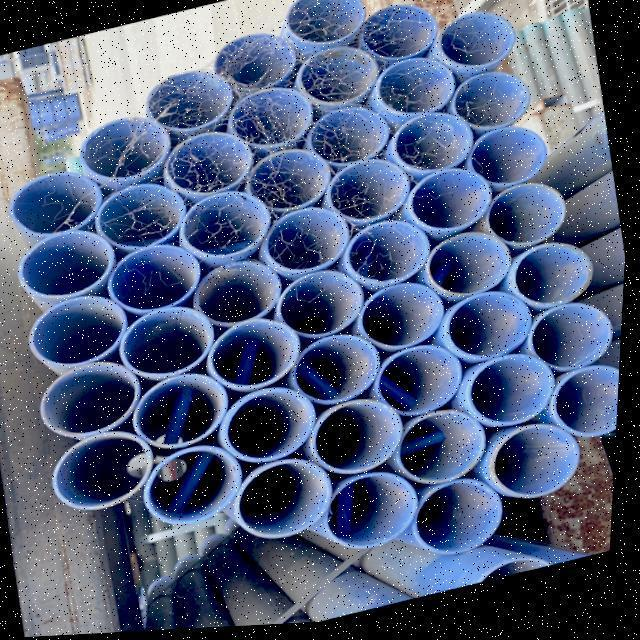pipe: (237, 456, 339, 545), (19, 225, 121, 312), (79, 114, 173, 201), (44, 359, 145, 438), (55, 435, 155, 514), (30, 296, 129, 375), (124, 305, 224, 382), (223, 389, 320, 468), (149, 450, 244, 530), (461, 359, 558, 437), (417, 484, 510, 565), (494, 428, 587, 509), (328, 476, 422, 556), (377, 340, 466, 424), (315, 402, 409, 481), (107, 241, 204, 317), (10, 166, 105, 243), (209, 319, 305, 394), (401, 415, 491, 495), (236, 149, 331, 224), (291, 336, 381, 414), (273, 270, 363, 345), (94, 181, 189, 252), (143, 375, 231, 451), (448, 293, 538, 366), (340, 222, 431, 294), (182, 192, 274, 263), (196, 264, 289, 334), (260, 206, 353, 276), (359, 285, 448, 358), (424, 230, 513, 301), (165, 132, 256, 201), (210, 29, 298, 99), (533, 309, 618, 381), (405, 174, 496, 241), (148, 68, 240, 134), (326, 159, 412, 229), (228, 87, 316, 155), (507, 250, 595, 317), (371, 55, 457, 121), (466, 130, 550, 197), (290, 47, 378, 110), (490, 187, 571, 255), (307, 108, 393, 172), (393, 115, 479, 179), (353, 4, 442, 62), (556, 372, 624, 447), (452, 76, 536, 136), (437, 15, 518, 76), (281, 0, 370, 48)
